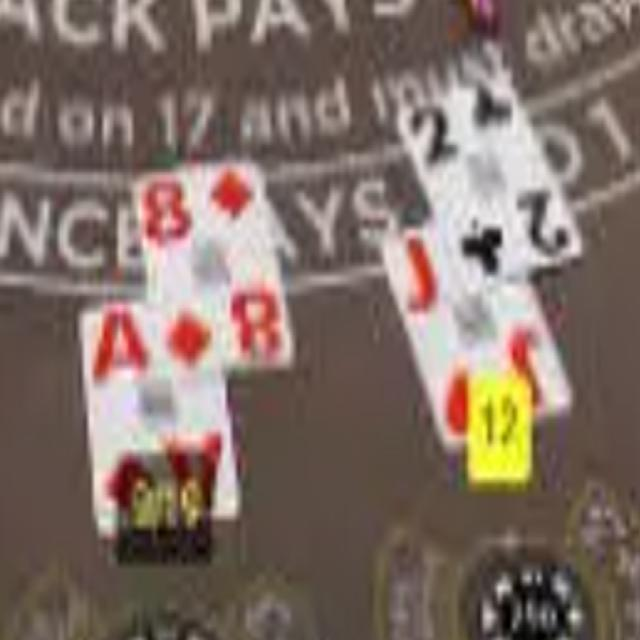Card-2: (397, 74, 583, 295)
Card-8: (135, 159, 296, 369)
Card-A: (79, 305, 238, 537)
Card-J: (381, 223, 574, 446)
